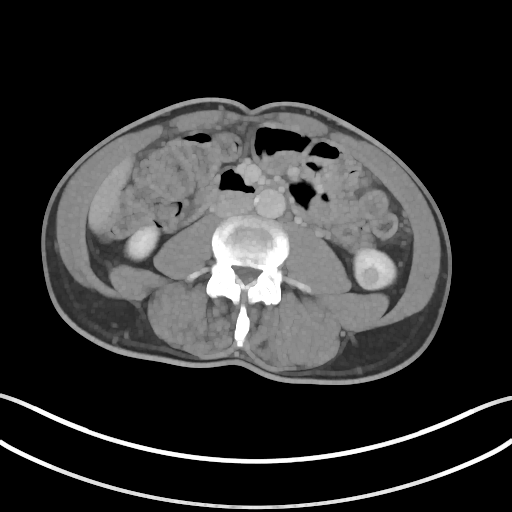Lesion: (360, 267, 382, 285)
